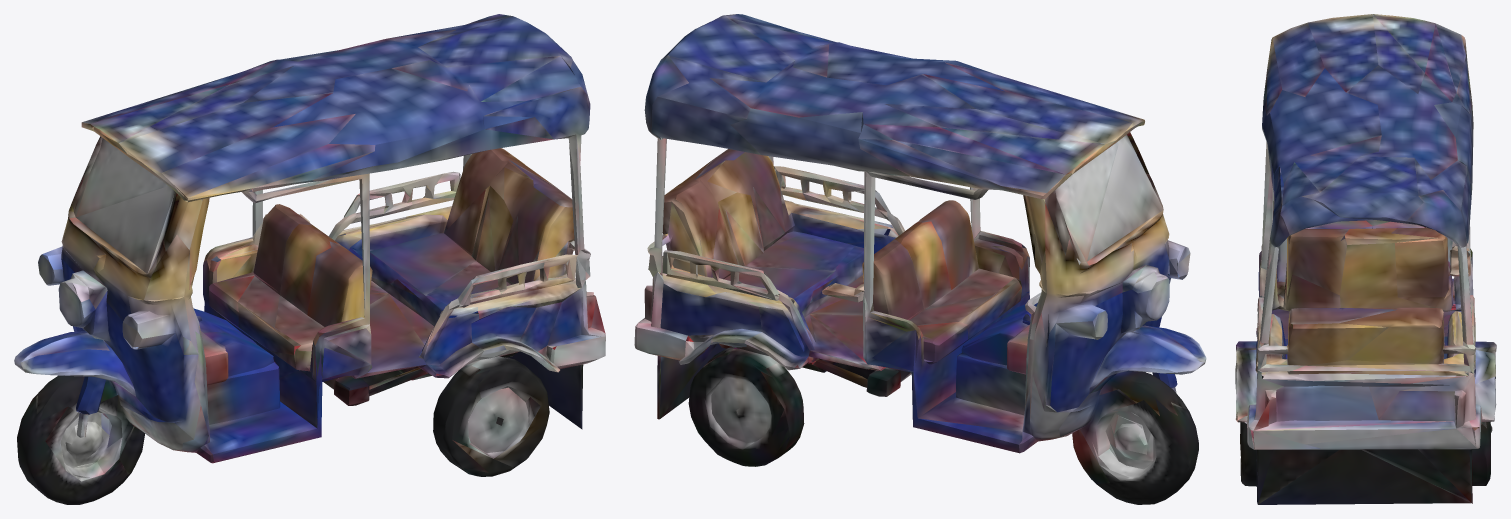
The model's file is tuktuk.glb.
3 renders of one model, left to right at view 1: azimuth 30°, elevation 25°; view 2: azimuth 150°, elevation 25°; view 3: azimuth 270°, elevation 25°, orthographic. The views are drawn at different scales.
Parts seen in each view (by area): view 1: Mesh_0.6609; view 2: Mesh_0.6609; view 3: Mesh_0.6609.
Boxes of the visible parts, x1,y1,x2,y2 form: Mesh_0.6609: [14, 14, 605, 504]; Mesh_0.6609: [634, 14, 1206, 504]; Mesh_0.6609: [1235, 14, 1496, 504].
Size of the model in its own units: 2.64 by 1.75 by 1.22.
1 material, 1 textured.
